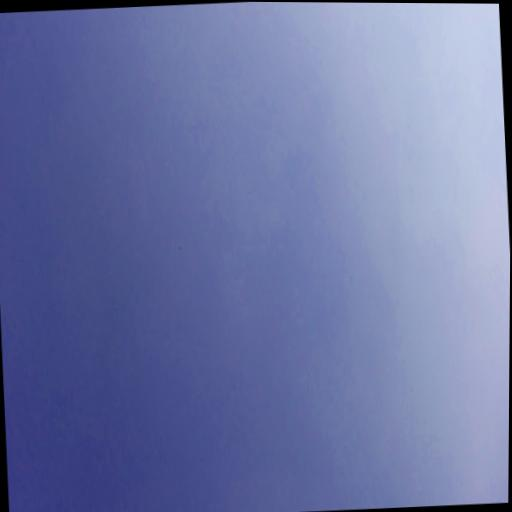drones: (179, 243, 183, 251)
